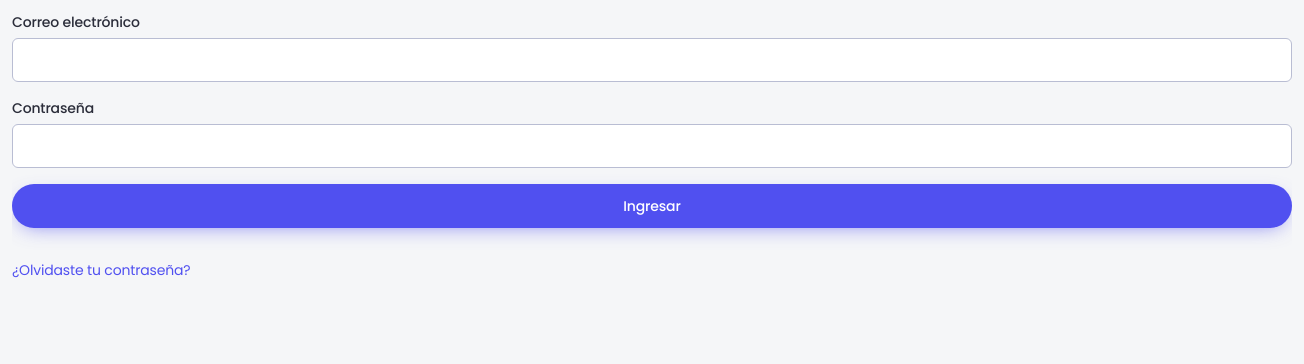
Test case: LoginForm › submits credentials and shows a generic error
Type "persona@example.test" into the field labelled "Correo electrónico" at (652, 60), box [12, 38, 1292, 82]
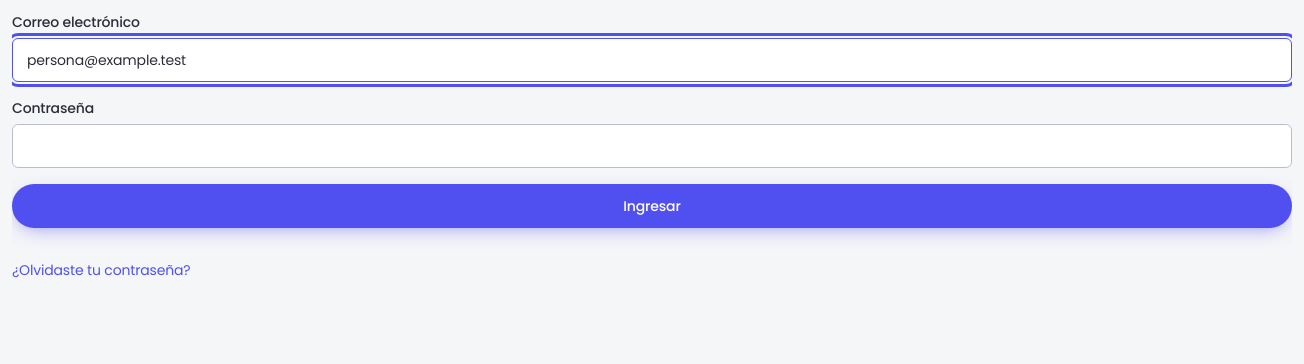
Type "una-clave" into the password field labelled "Contraseña" at (652, 146), box [12, 124, 1292, 168]
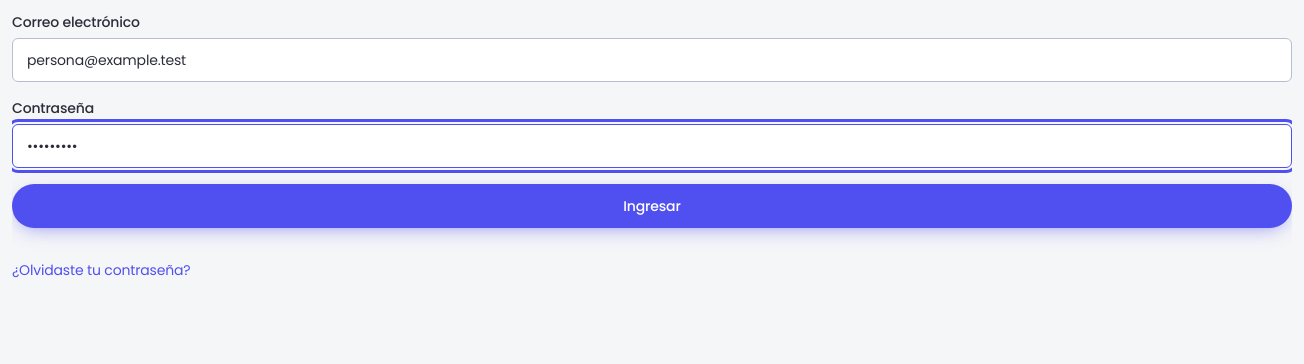
Click the button "Ingresar" at (652, 206), box [12, 184, 1292, 228]
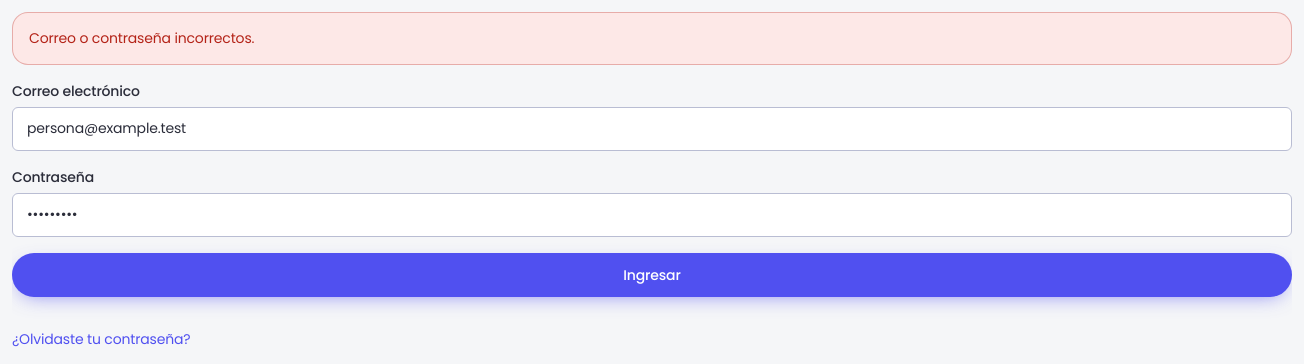
Now the message reads "Correo o contraseña incorrectos.", box [29, 28, 254, 48]
